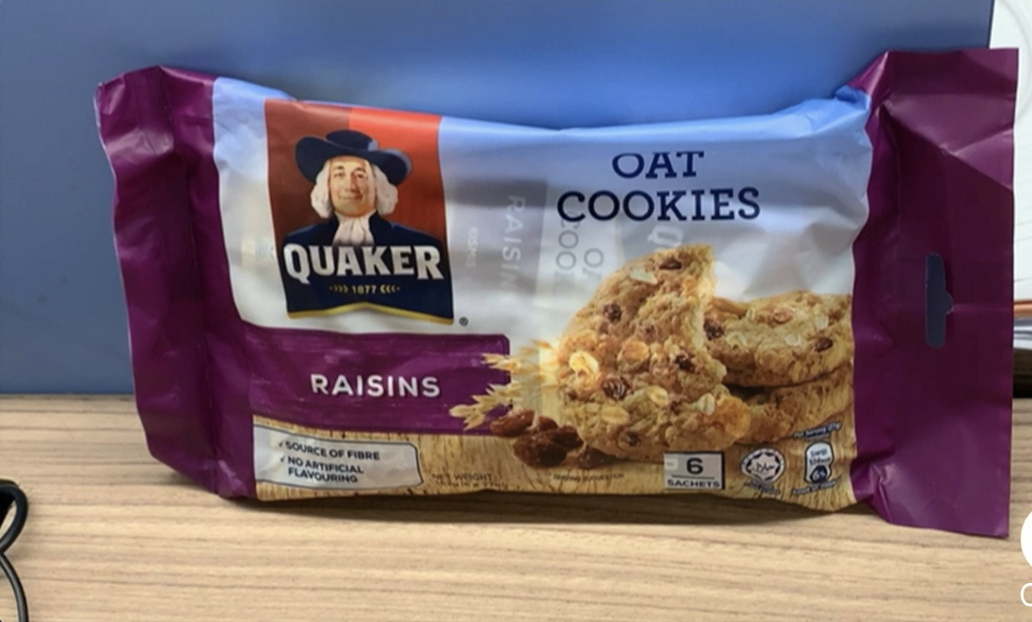cookies_150g: (223, 135, 849, 487)
